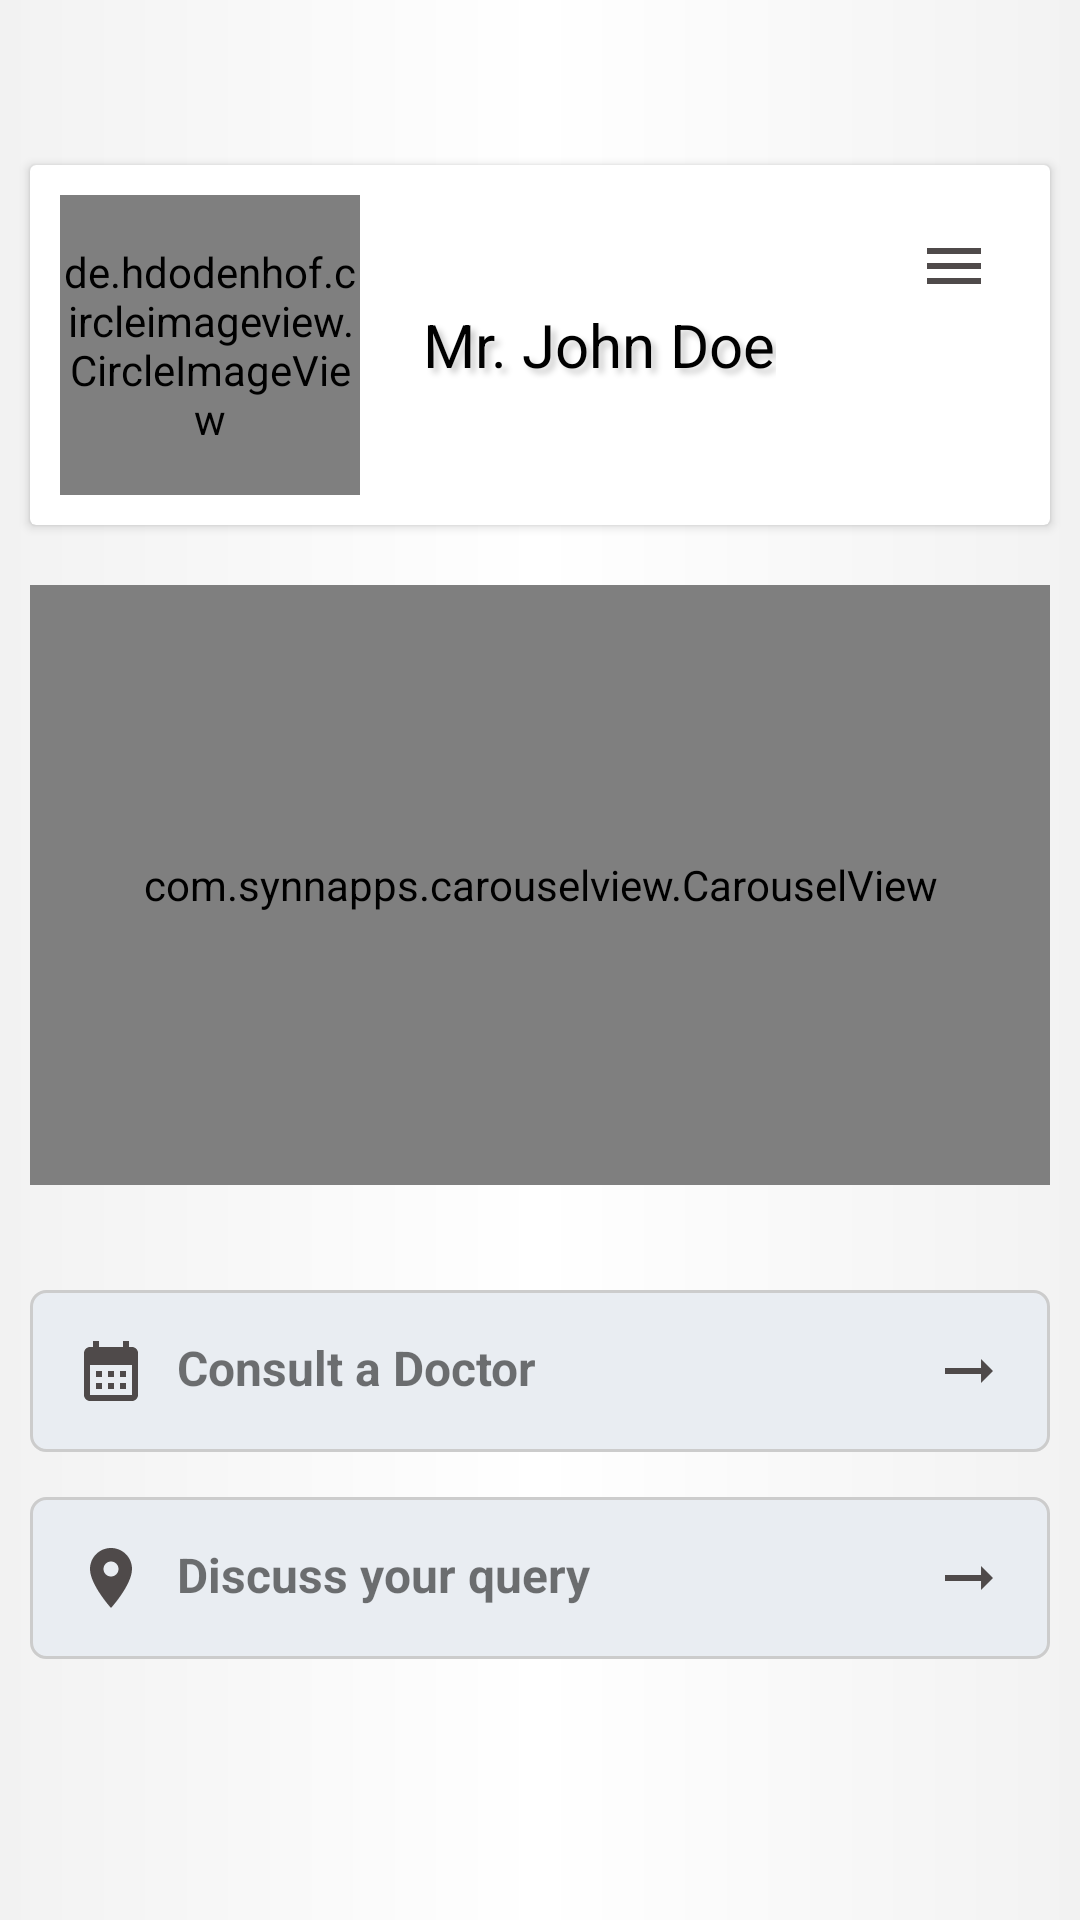

Where icons sit on this 1080 × 1920 app screen, as box=[x1, y1, x2, y2]:
menu: box=[927, 248, 981, 284]
